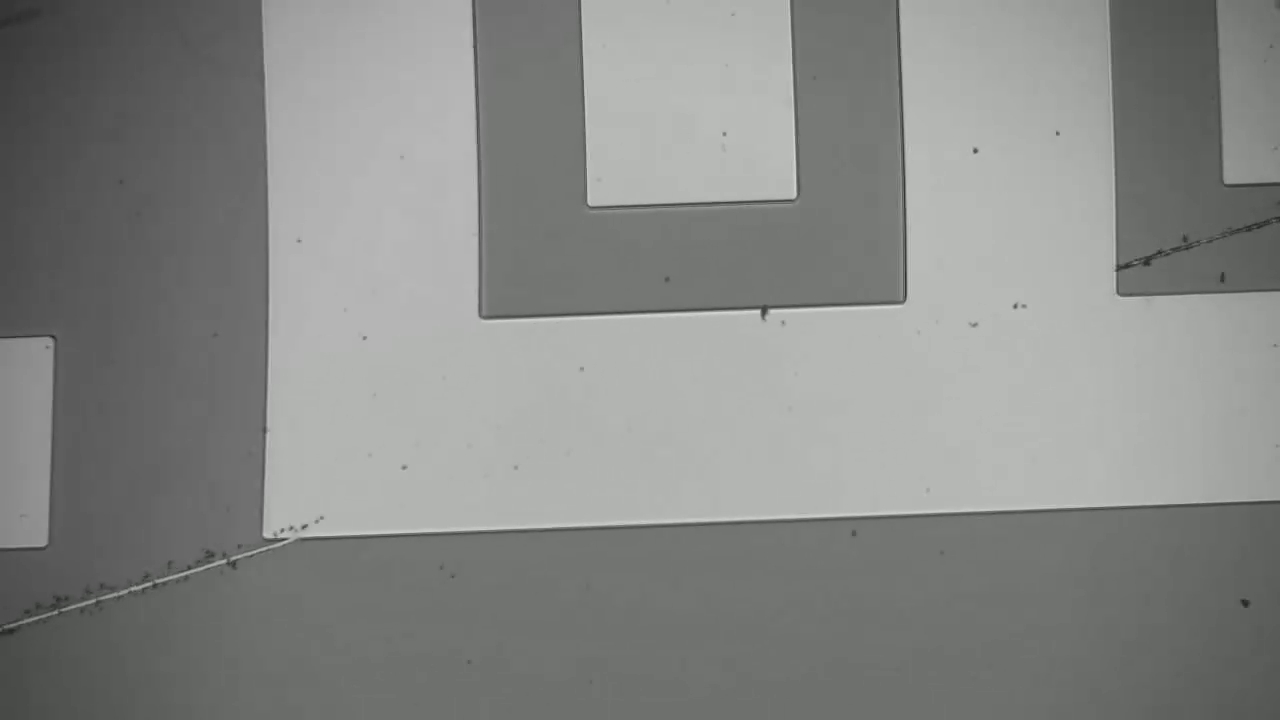scratch: (6, 539, 294, 627), (1125, 219, 1272, 266)
